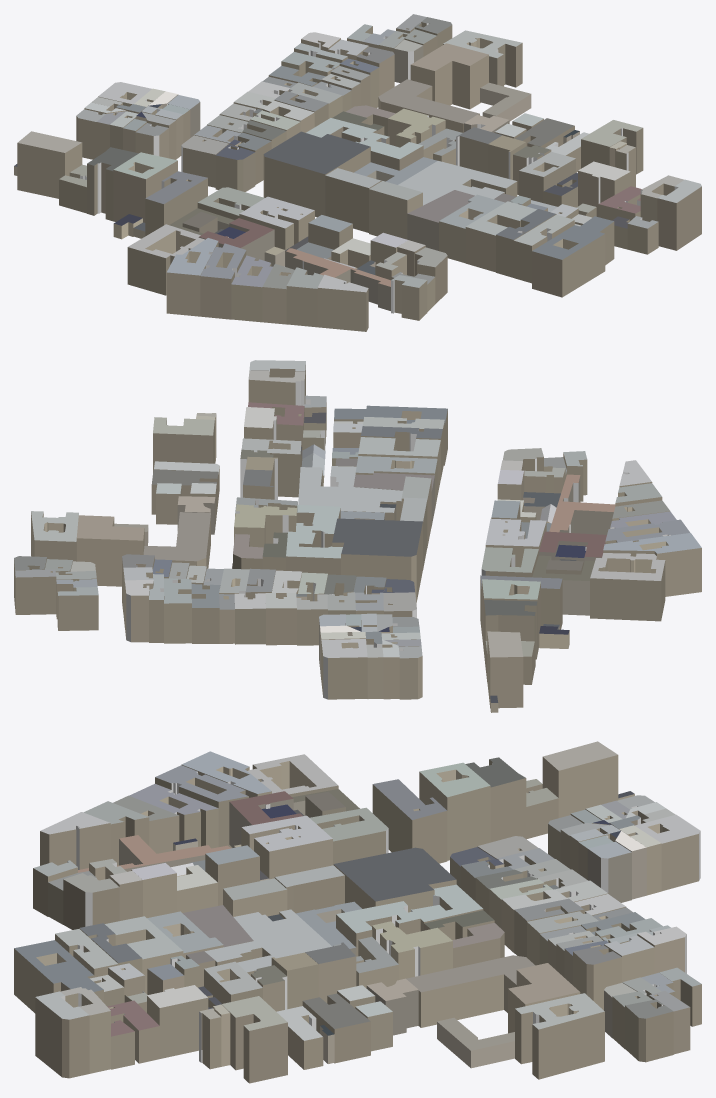
The picture shows the model from 3 angles, top to bottom: view 1: azimuth 30°, elevation 25°; view 2: azimuth 150°, elevation 25°; view 3: azimuth 270°, elevation 25°; orthographic projection. The views are drawn at different scales.
Visible parts, largest first — view 1: tuile; view 2: tuile; view 3: tuile.
Part boxes in pixels (<box>): tuile: <box>14,14,701,331</box>; tuile: <box>14,360,701,712</box>; tuile: <box>14,741,701,1083</box>.
Bounding box in the file's own units: 278 × 31.88 × 273.
